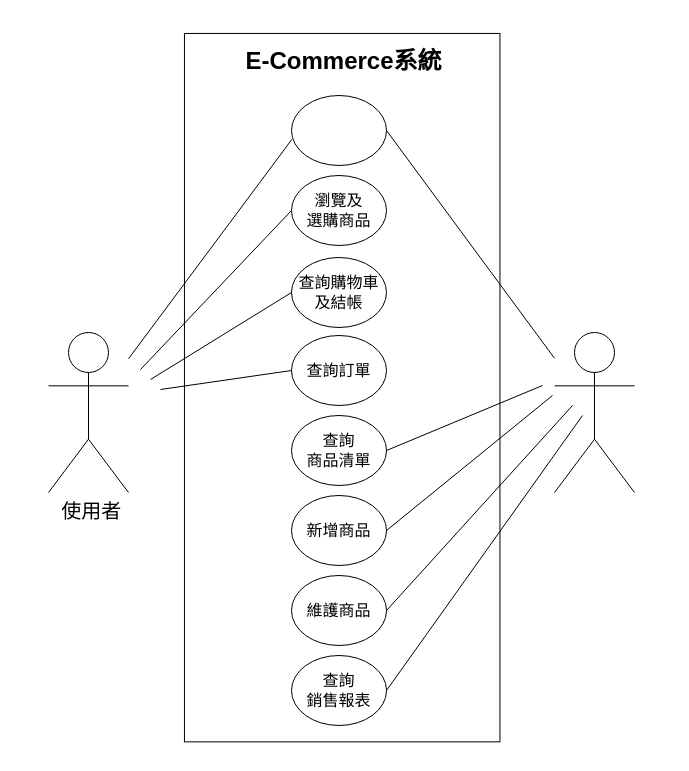
Some shapes in this 689 by 771 pixel diagram are drawn without their labels. Each missing label, with the centre of its shape:
"後臺管理者" goes at (594,412).
"登入系統" goes at (338,130).
